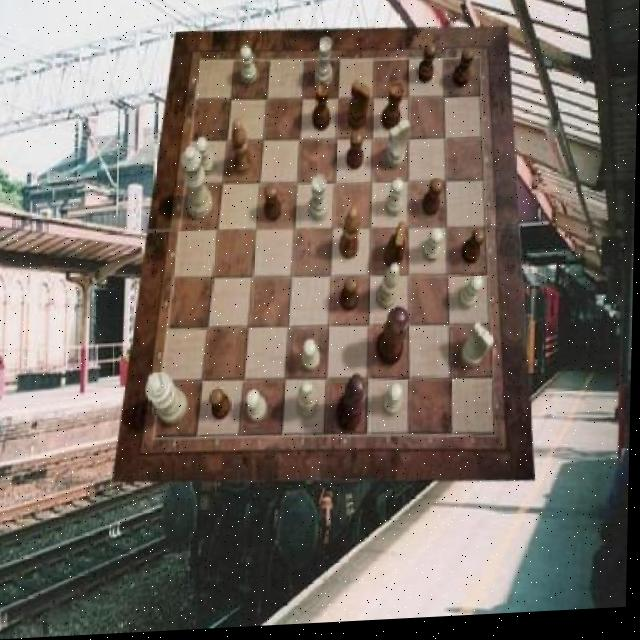bishop: (232, 120, 255, 179), (341, 211, 362, 265)
black-bishop: (337, 377, 370, 436)
black-king: (348, 85, 372, 137), (386, 226, 410, 273)
black-knight: (453, 53, 476, 94), (462, 233, 486, 269), (423, 182, 444, 221), (418, 47, 437, 87), (211, 390, 233, 423), (347, 134, 365, 173), (265, 187, 283, 225), (342, 280, 360, 316)
black-pawn: (378, 311, 412, 371)
black-queen: (382, 86, 405, 136), (313, 83, 331, 135)
black-rook: (377, 266, 401, 313), (299, 383, 322, 423)
white-bishop: (146, 371, 190, 427)
white-king: (463, 327, 496, 374), (388, 123, 412, 173)
white-knight: (460, 279, 486, 314), (197, 139, 217, 178), (248, 392, 269, 427), (423, 231, 444, 266), (387, 183, 405, 222), (240, 48, 258, 87), (385, 388, 405, 423), (304, 343, 322, 377)
white-pawn: (180, 148, 215, 223)
white-queen: (309, 179, 331, 226), (315, 40, 334, 92)
